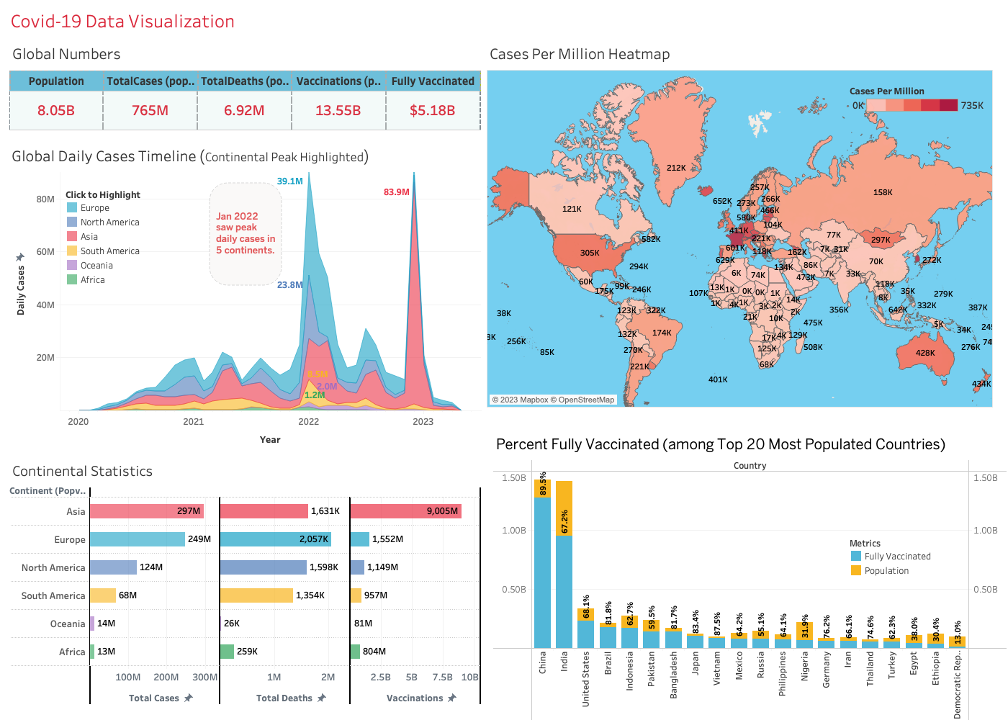

The dashboard page shown, as its layout file describes it:
{"tool":"tableau","page":{"name":"Dashboard 1","canvas":[1400,1000],"ordinal":0},"visuals":[{"type":"title","box":[8,8,1384,42]},{"type":"worksheet","title":"Global Numbers","mark":"Automatic","box":[8,50,664,142]},{"type":"worksheet","title":"Cases Per Million","mark":"Automatic","box":[672,50,720,942]},{"type":"legend","title":"Cases Per Million","param":"[federated.158mvkg0jwjmz8160ybsp0sv3wox].[sum:TotalCases_PerMillion:qk]","box":[1180,113.3,191,63.3]},{"type":"worksheet","title":"Global Daily Cases New","mark":"Area","rows":["new_cases (popvs_country_daily)"],"cols":["date (popvs_country_daily)"],"box":[8,192,664,438]},{"type":"legend","title":"Global Daily Cases New","param":"[federated.158mvkg0jwjmz8160ybsp0sv3wox].[none:continent (popvs_country_daily):n","box":[90,259,132,149]},{"type":"worksheet","title":"Population Fully Vaccinated Per Country","mark":"Bar","rows":["population (popvs_country)","Fully_Vaccinated (popvs_country)"],"cols":["location (popvs_country)"],"box":[685,598,714,403]},{"type":"worksheet","title":"Summary Per Continent","mark":"Automatic","rows":["continent (popvs_country)"],"cols":["TotalCases (popvs_country)","TotalDeaths (popvs_country)","Vaccinations (popvs_country)"],"box":[8,630,664,362]},{"type":"legend","title":"Population Fully Vaccinated Per Country","param":"[federated.158mvkg0jwjmz8160ybsp0sv3wox].[:Measure Names]","box":[1179,743.8,140,72.5]}]}

Visuals, with their boxes in screenshot pixels (x1, y1, x2, y2), scaled from the page's 1400x1000 canvas onto the 1008x720 screenshot:
title: {"left": 6, "top": 6, "right": 1002, "bottom": 36}
"Global Numbers" worksheet: {"left": 6, "top": 36, "right": 484, "bottom": 138}
"Cases Per Million" worksheet: {"left": 484, "top": 36, "right": 1002, "bottom": 714}
"Cases Per Million" legend: {"left": 850, "top": 82, "right": 987, "bottom": 127}
"Global Daily Cases New" worksheet (Area marks): {"left": 6, "top": 138, "right": 484, "bottom": 454}
"Global Daily Cases New" legend: {"left": 65, "top": 186, "right": 160, "bottom": 294}
"Population Fully Vaccinated Per Country" worksheet (Bar marks): {"left": 493, "top": 431, "right": 1007, "bottom": 719}
"Summary Per Continent" worksheet: {"left": 6, "top": 454, "right": 484, "bottom": 714}
"Population Fully Vaccinated Per Country" legend: {"left": 849, "top": 536, "right": 950, "bottom": 588}
